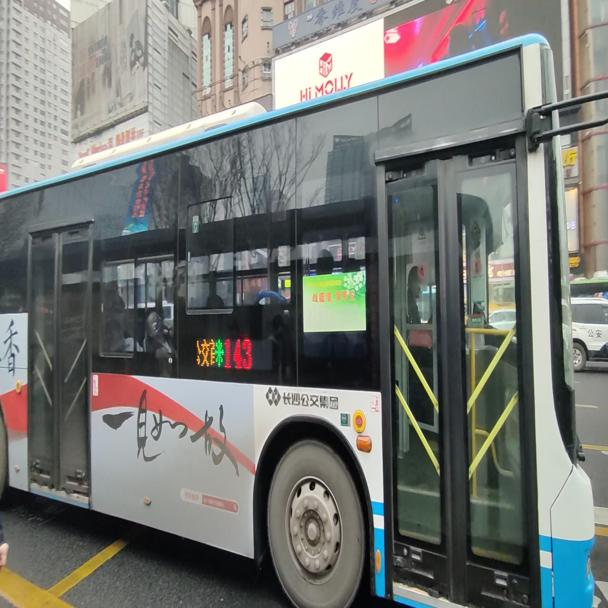bus: (0, 39, 607, 606)
screen: (223, 337, 251, 369)
